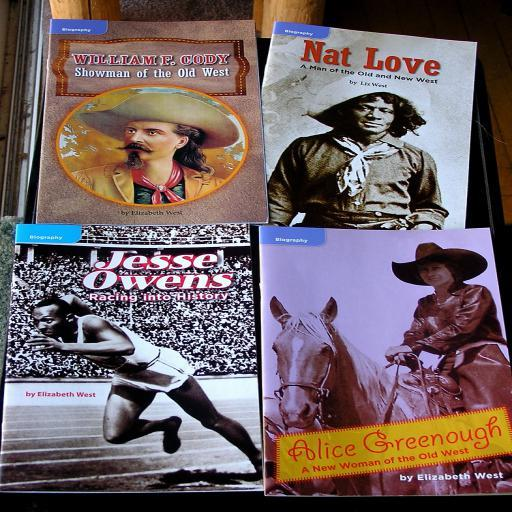Horse: (268, 293, 468, 493)
